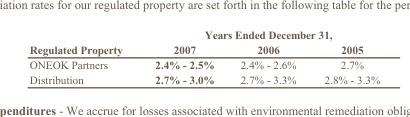table: (28, 28, 379, 85)
table column: (28, 28, 138, 85), (138, 28, 226, 85), (226, 28, 309, 85), (309, 28, 379, 85)
table column header: (28, 28, 379, 57)
table row: (28, 42, 379, 57), (28, 57, 379, 72), (28, 28, 379, 42), (28, 72, 379, 85)
table spanning cell: (138, 28, 379, 42), (28, 28, 138, 57)
